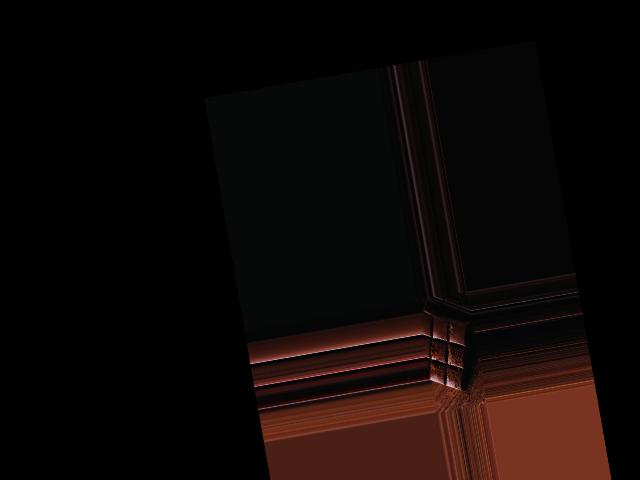chocolate: (419, 304, 480, 399)
